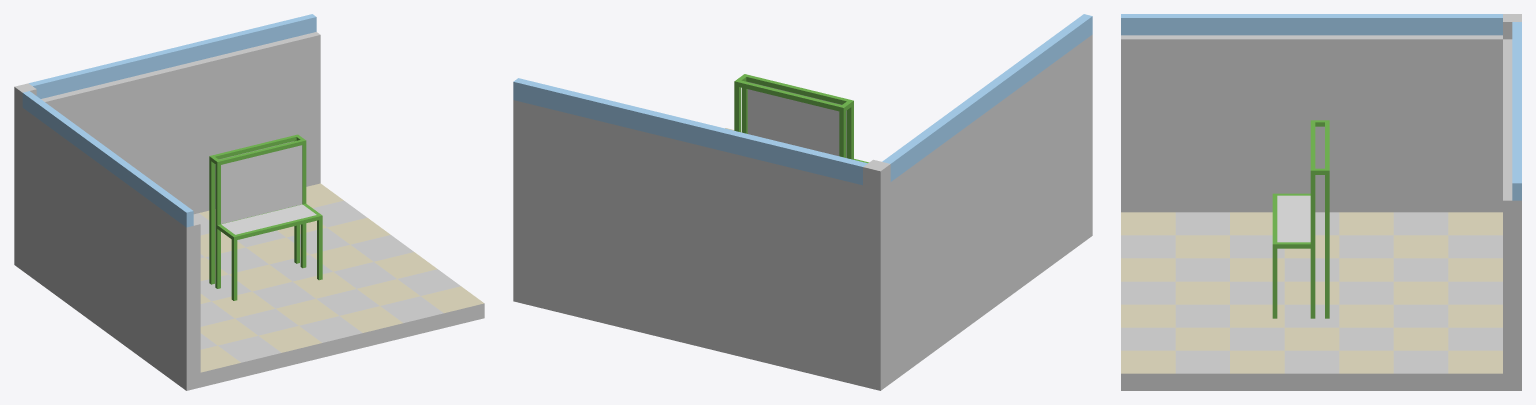
File: prueba02.gltf
3 views of the same model, side by side, from view 1: azimuth 30°, elevation 25°; view 2: azimuth 150°, elevation 25°; view 3: azimuth 270°, elevation 25° (orthographic). The views are drawn at different scales.
Visible parts, largest first — view 1: Cube.002, Plane.001, Cube.001, Cube; view 2: Cube.002, Cube.001, Plane.001; view 3: Cube.002, Plane.001, Cube.
Part boxes in pixels (<box>): Cube.002: <box>14,14,484,390</box>; Plane.001: <box>209,134,322,300</box>; Cube.001: <box>221,145,302,223</box>; Cube: <box>221,204,316,234</box>; Cube.002: <box>513,14,1092,390</box>; Cube.001: <box>747,82,846,157</box>; Plane.001: <box>734,74,868,163</box>; Cube.002: <box>1121,14,1521,390</box>; Plane.001: <box>1272,120,1329,318</box>; Cube: <box>1277,195,1310,242</box>.
Size of the model in its own units: 42 by 24 by 42.
